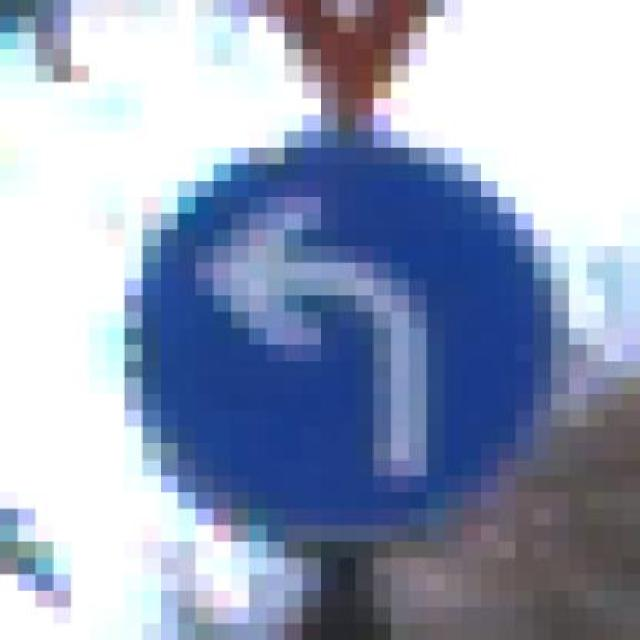Turn left ahead: (89, 115, 586, 558)
